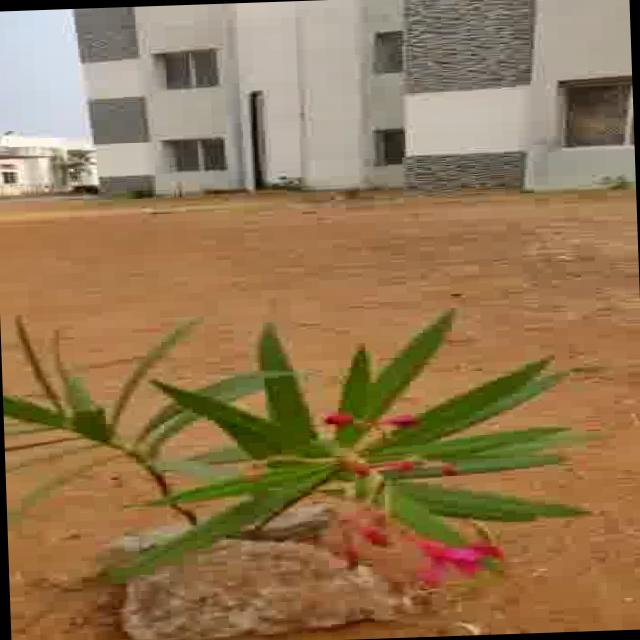Oleander: (0, 298, 640, 600)
